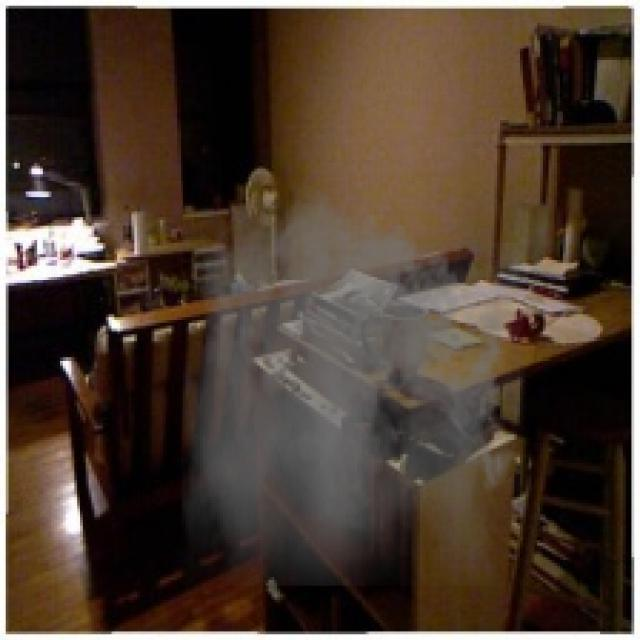Smoke: (180, 174, 526, 586)
